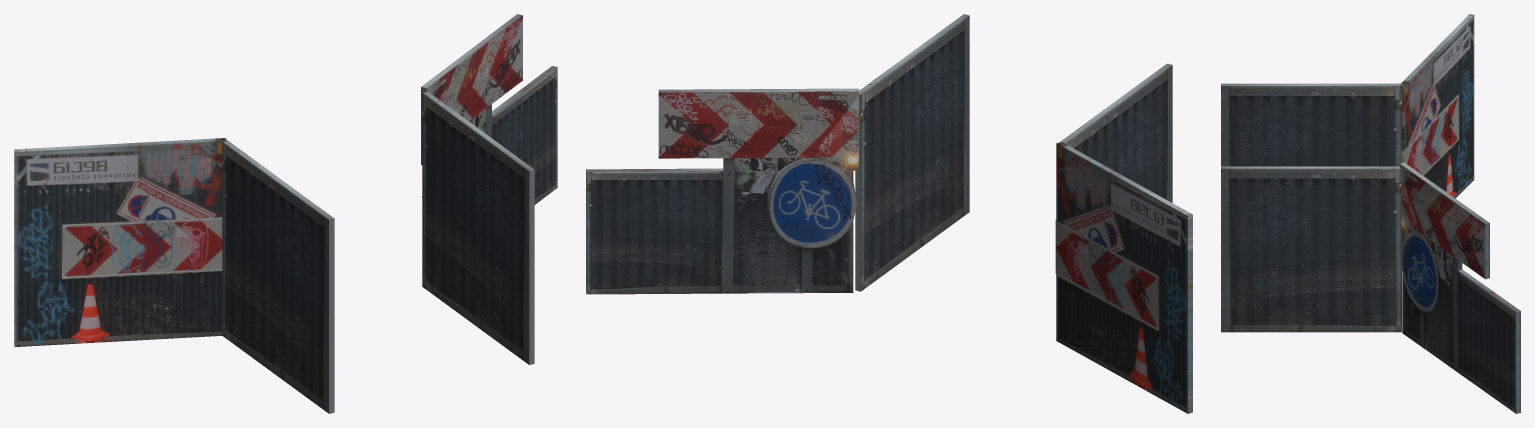
Rendered from Travaux.fbx.
The picture shows the model from 3 angles, left to right: view 1: azimuth 30°, elevation 25°; view 2: azimuth 150°, elevation 25°; view 3: azimuth 270°, elevation 25°; orthographic projection. The views are drawn at different scales.
Visible parts, largest first — view 1: Travaux_droite, Panneau, Panneau.001, Travaux_gauche; view 2: Travaux_gauche, Travaux_droite, Panneau.001, Panneau; view 3: Panneau.001, Travaux_gauche, Panneau, Travaux_droite.
Part boxes in pixels (left/top/right/bottom): Travaux_droite: left=14, top=138, right=226, bottom=346; Panneau: left=222, top=140, right=334, bottom=413; Panneau.001: left=422, top=92, right=534, bottom=364; Travaux_gauche: left=421, top=14, right=557, bottom=204; Travaux_gauche: left=586, top=88, right=858, bottom=294; Travaux_droite: left=1055, top=141, right=1192, bottom=413; Panneau.001: left=855, top=14, right=969, bottom=291; Panneau: left=1060, top=63, right=1172, bottom=202; Panneau.001: left=1221, top=166, right=1401, bottom=332; Travaux_gauche: left=1400, top=162, right=1520, bottom=413; Panneau: left=1221, top=83, right=1401, bottom=166; Travaux_droite: left=1400, top=14, right=1474, bottom=243.
Size of the model in its own units: 43.59 by 23.49 by 14.51.
Materials: 1 (1 with a texture image).
